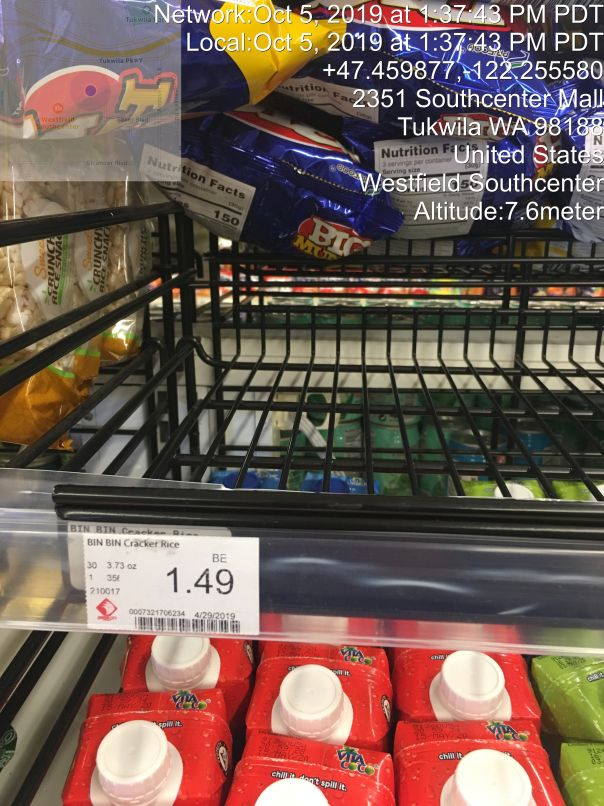Label: (75, 525, 276, 644)
Location: (346, 82, 604, 201)
Time: (137, 1, 604, 57)
Void: (35, 214, 604, 475)
